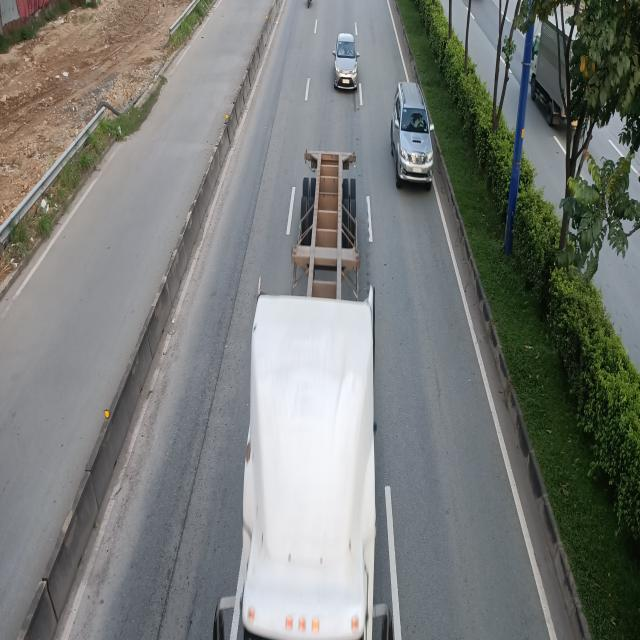car: (393, 81, 437, 190), (334, 33, 360, 91)
container: (233, 146, 377, 640)
